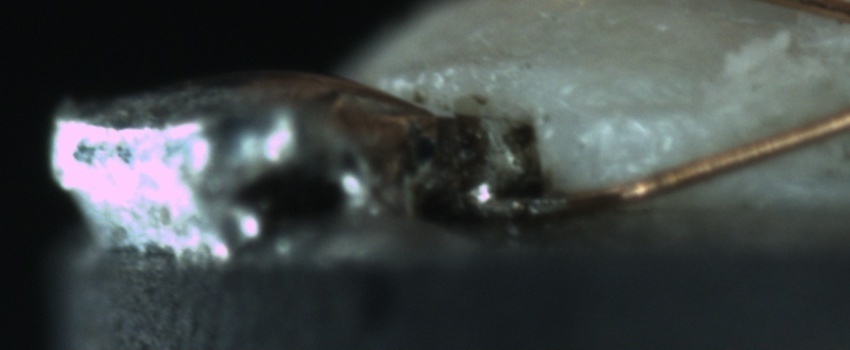DL: (580, 82, 713, 144)
